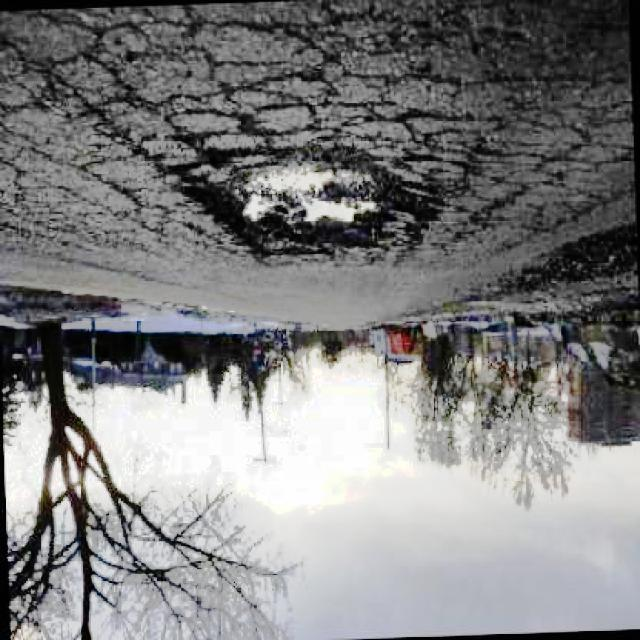pothole: (210, 135, 408, 257)
